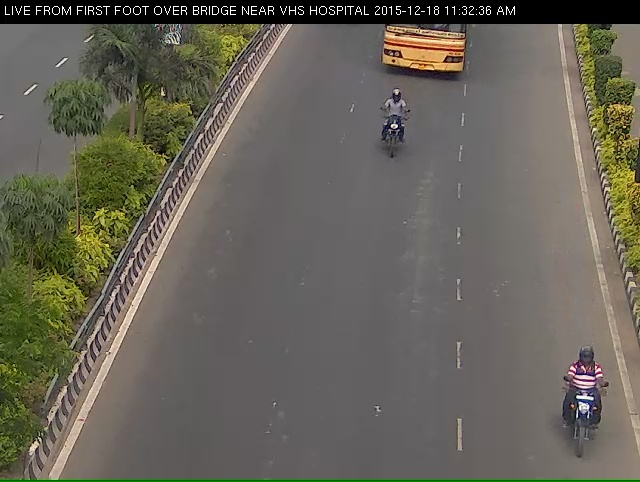Bus: (377, 20, 483, 87)
Person: (554, 379, 616, 481), (379, 101, 414, 179)
